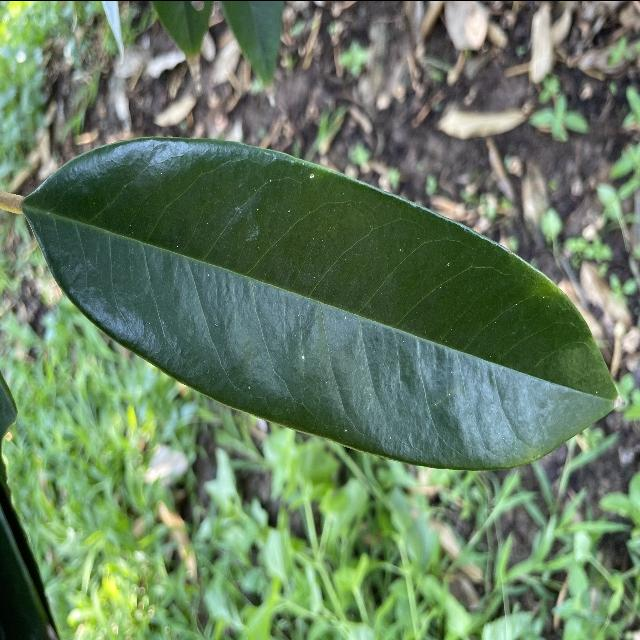No Disease: (13, 131, 632, 477)
